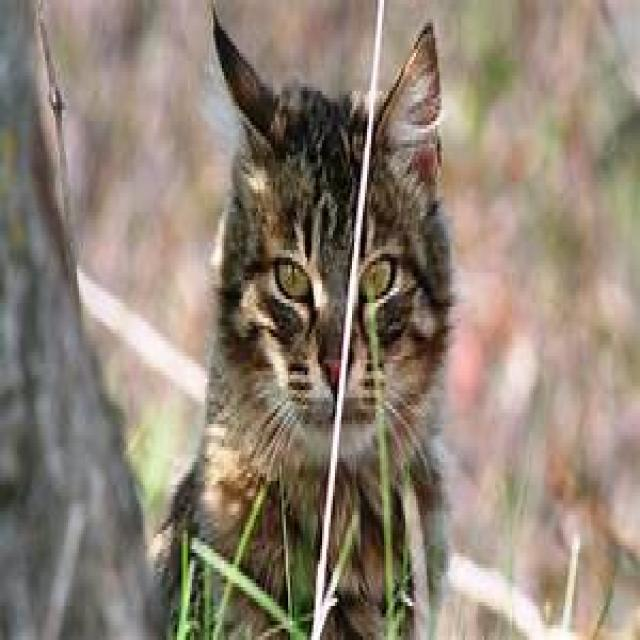animal: (146, 0, 469, 640)
